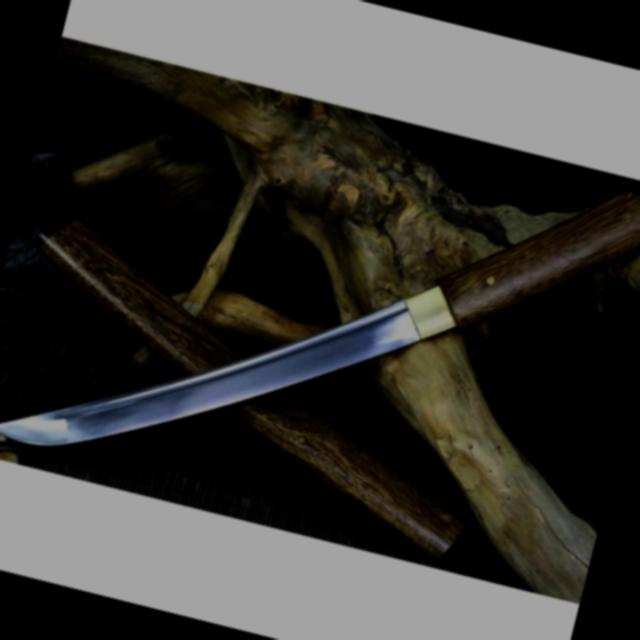short sword: (0, 39, 640, 589)
